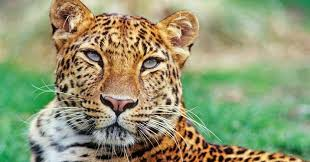amur_leopard: (22, 2, 242, 162)
